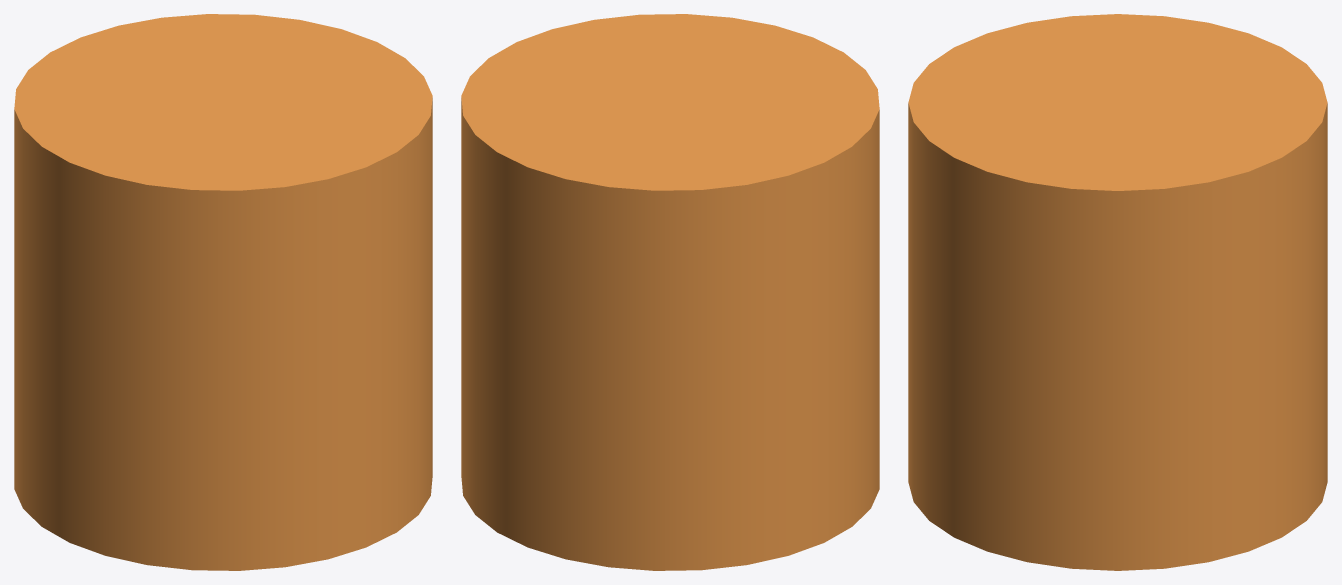
File: cyl_accent.glb
The picture shows the model from 3 angles, left to right: view 1: azimuth 30°, elevation 25°; view 2: azimuth 150°, elevation 25°; view 3: azimuth 270°, elevation 25°; orthographic projection.
Visible parts, largest first — view 1: cyl_accent.glb; view 2: cyl_accent.glb; view 3: cyl_accent.glb.
Boxes of the visible parts, x1=… form: cyl_accent.glb: x1=14, y1=14, x2=432, y2=570; cyl_accent.glb: x1=461, y1=14, x2=879, y2=570; cyl_accent.glb: x1=908, y1=14, x2=1327, y2=570.
Size of the model in its own units: 1 by 1 by 1.
